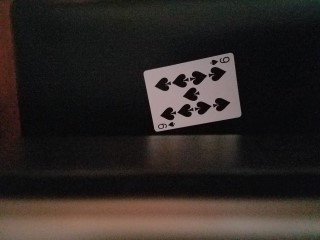NineOfSpades: (143, 53, 242, 132)
